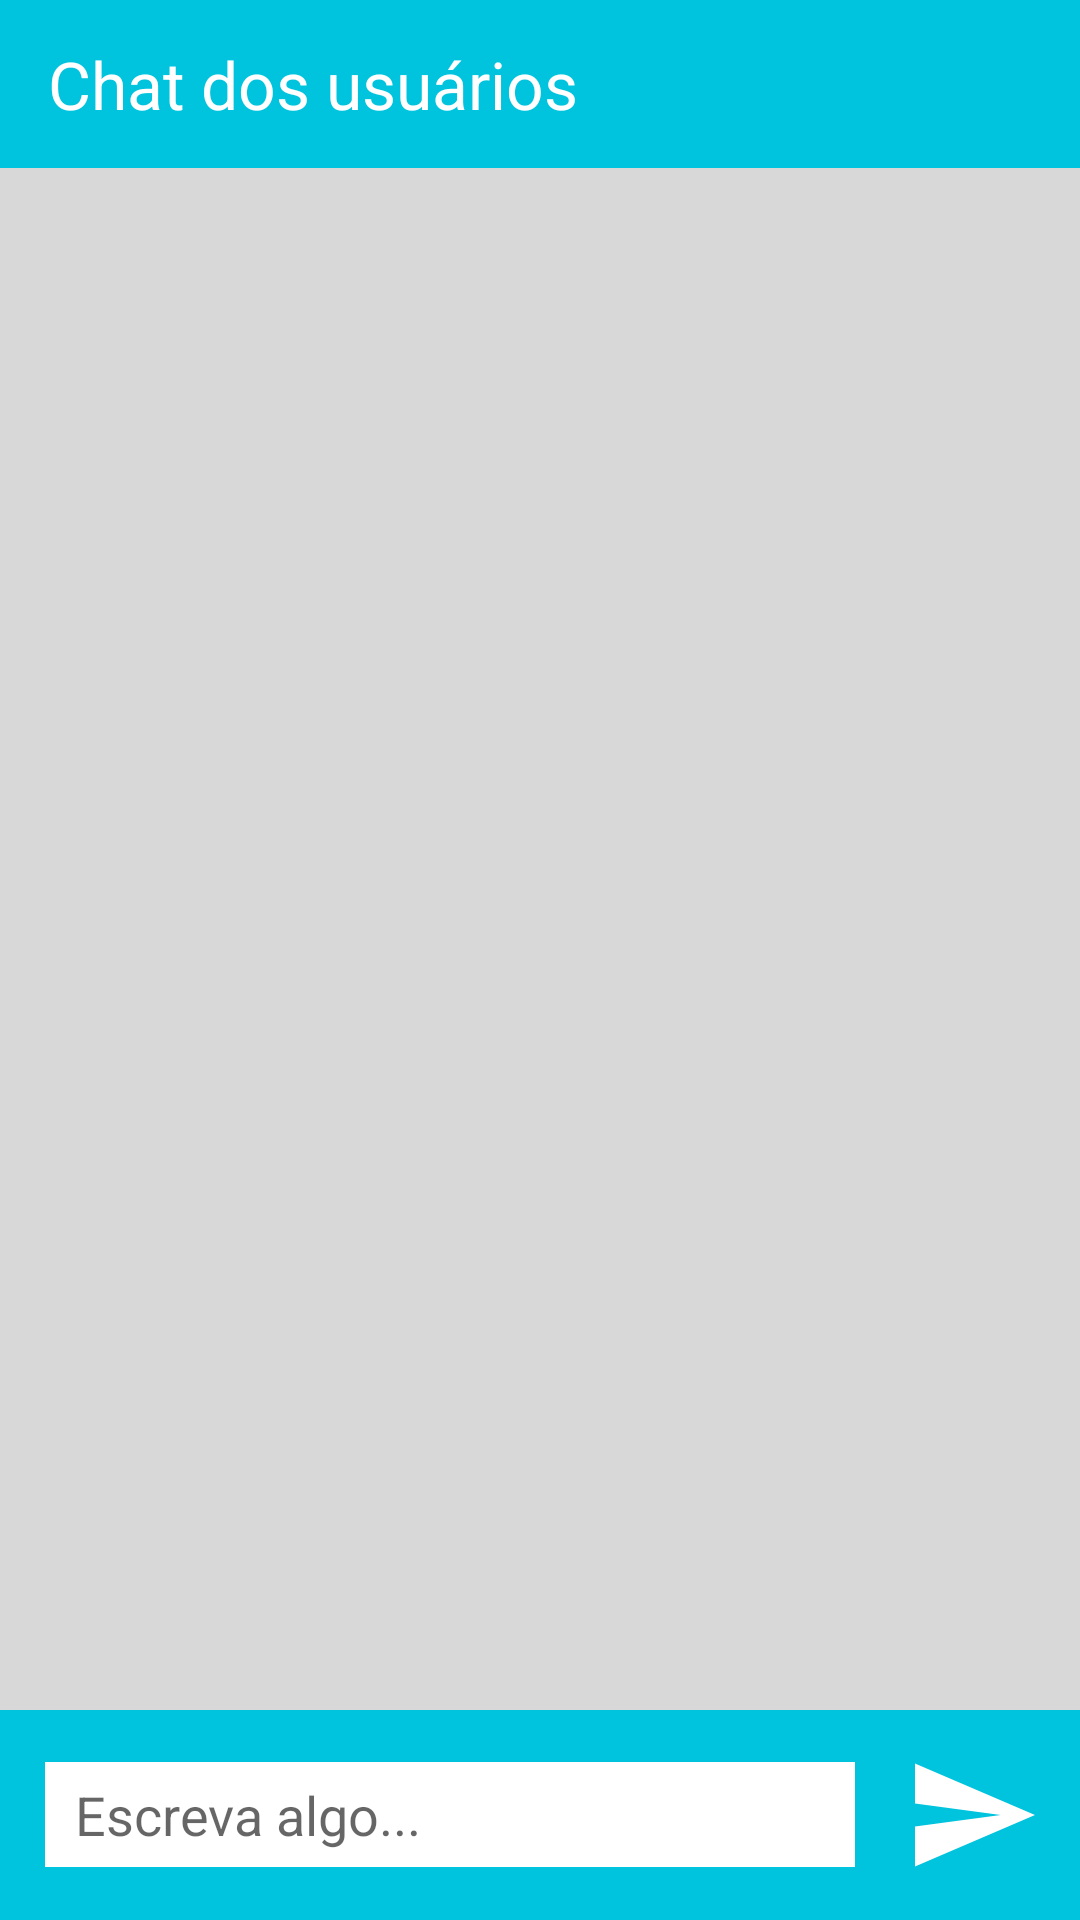

Screen size 1080 x 1920. Icon name, then its center in pixels as (x,y):
send: (975,1815)
